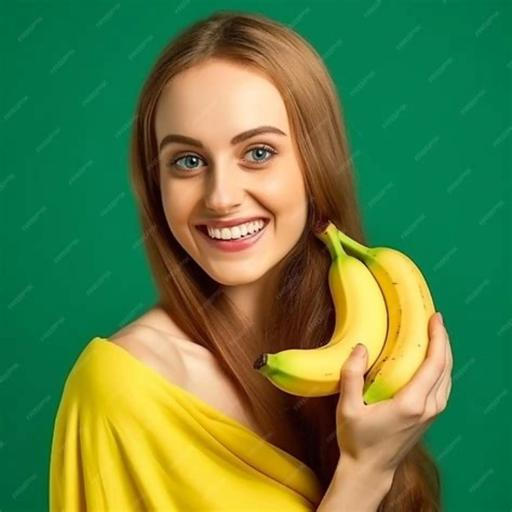banana: (254, 222, 387, 396), (338, 231, 434, 403)
